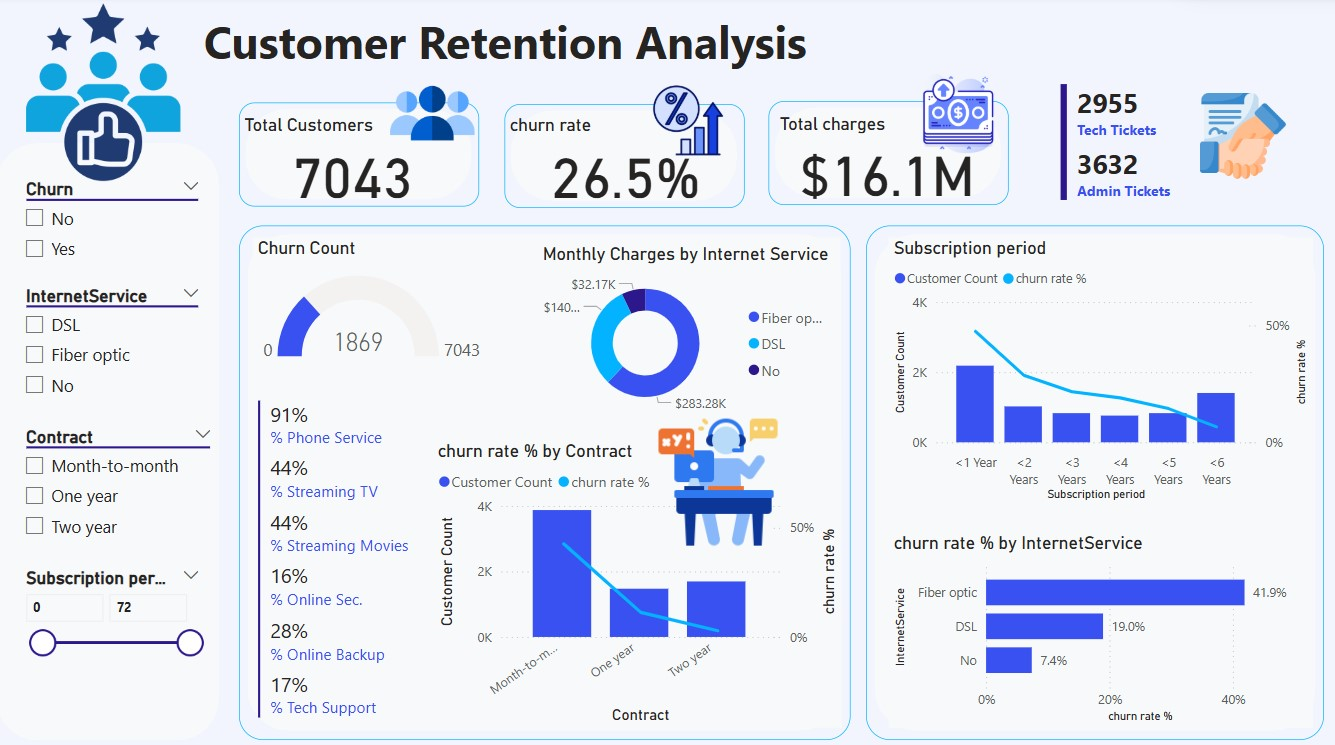

This screenshot's page, from the dashboard's own definition file:
{"tool":"powerbi","page":{"name":"Page 1","canvas":[1280,720],"ordinal":0},"visuals":[{"type":"textbox","box":[193.6,8.1,645.7,76.4],"z":0},{"type":"multiRowCard","fields":{"Values":["Sum(Churn.numTechTickets)","Sum(Churn.numAdminTickets)"]},"box":[1011.7,78.1,245.6,123.6],"z":1000},{"type":"shape","box":[0,139.9,213.1,570.9],"z":2000},{"type":"shape","box":[831.2,219.6,437.5,491.2],"z":3000},{"type":"shape","box":[232.8,101.4,229.3,99.2],"z":4000},{"type":"shape","box":[484.9,102.5,229.3,99.2],"z":5000},{"type":"shape","box":[737.5,100.3,229.3,99.2],"z":6000},{"type":"shape","box":[232.6,219.6,583.9,491.2],"z":7000},{"type":"card","title":"Total Customers","fields":{"Values":["_Measures.Customer Count"]},"box":[232.8,112.8,218,87.8],"z":8000},{"type":"card","title":"churn rate","fields":{"Values":["_Measures.% Churn Rate"]},"box":[484.9,113.9,232.6,87.8],"z":9000},{"type":"card","title":"Total charges","fields":{"Values":["Sum(Churn.TotalCharges)"]},"box":[744,111.7,216.3,87.8],"z":10000},{"type":"slicer","fields":{"Values":["Churn.InternetService"]},"box":[16.3,270,190.3,138.3],"z":11000},{"type":"slicer","fields":{"Values":["Churn.Contract"]},"box":[16.3,405,201.7,120.4],"z":12000},{"type":"slicer","fields":{"Values":["Churn.tenure"]},"box":[16.3,540,190.3,156.1],"z":13000},{"type":"clusteredBarChart","fields":{"Category":["Churn.InternetService"],"Y":["_Measures.churn rate %"]},"box":[852.3,507.5,405,191.9],"z":14000},{"type":"donutChart","title":"Monthly Charges by Internet Service","fields":{"Category":["Churn.InternetService"],"Y":["Sum(Churn.MonthlyCharges)"]},"box":[517.2,231,289.5,177.3],"z":15000},{"type":"lineClusteredColumnComboChart","title":" churn rate % by Contract","fields":{"Category":["Churn.Contract"],"Y":["_Measures.Customer Count"],"Y2":["_Measures.churn rate %"]},"box":[416.4,424.5,390.4,274.9],"z":16000},{"type":"gauge","title":"Churn Count","fields":{"Y":["_Measures.Churn Count"],"MaxValue":["_Measures.Customer Count"]},"box":[245.6,231,227.7,135],"z":17000},{"type":"lineClusteredColumnComboChart","title":"Subscription period","fields":{"Category":["Churn.Subscription period"],"Y2":["_Measures.churn rate %"],"Y":["_Measures.Customer Count"]},"box":[852.3,231,405,255.4],"z":18000},{"type":"multiRowCard","fields":{"Values":["_Measures.% Phone Service","_Measures.% Streaming TV","_Measures.% Streaming Movies","_Measures.% Online Sec.","_Measures.% Online Backup","_Measures.% Tech Support"]},"box":[245.6,380.6,170.8,318.8],"z":19000},{"type":"image","box":[870.2,68.3,96,86.2],"z":20000},{"type":"image","box":[370.9,61.8,91.1,100.8],"z":21000},{"type":"image","box":[592.1,78.1,138.3,79.7],"z":22000},{"type":"image","box":[561.2,398.5,255.4,131.8],"z":23000},{"type":"image","box":[1122.3,84.6,135,97.6],"z":24000},{"type":"image","box":[11.4,1.6,182.2,180.5],"z":25000},{"type":"slicer","fields":{"Values":["Churn.Churn"]},"box":[16.3,169.2,190.3,102.5],"z":25001}]}

Visuals, with their boxes in screenshot pixels (x1, y1, x2, y2), scaled from the page's 1280x720 canvas onto the 1335x745 screenshot:
textbox: (left=202, top=8, right=875, bottom=87)
multiRowCard - Sum(Churn.numTechTickets) x Sum(Churn.numAdminTickets): (left=1055, top=81, right=1311, bottom=209)
shape: (left=0, top=145, right=222, bottom=735)
shape: (left=867, top=227, right=1323, bottom=735)
shape: (left=243, top=105, right=482, bottom=208)
shape: (left=506, top=106, right=745, bottom=209)
shape: (left=769, top=104, right=1008, bottom=206)
shape: (left=243, top=227, right=852, bottom=735)
"Total Customers" card: (left=243, top=117, right=470, bottom=208)
"churn rate" card: (left=506, top=118, right=748, bottom=209)
"Total charges" card: (left=776, top=116, right=1002, bottom=206)
slicer - Churn.InternetService: (left=17, top=279, right=215, bottom=422)
slicer - Churn.Contract: (left=17, top=419, right=227, bottom=544)
slicer - Churn.tenure: (left=17, top=559, right=215, bottom=720)
clusteredBarChart - Churn.InternetService x _Measures.churn rate %: (left=889, top=525, right=1311, bottom=724)
"Monthly Charges by Internet Service" donutChart: (left=539, top=239, right=841, bottom=422)
" churn rate % by Contract" lineClusteredColumnComboChart: (left=434, top=439, right=841, bottom=724)
"Churn Count" gauge: (left=256, top=239, right=494, bottom=379)
"Subscription period" lineClusteredColumnComboChart: (left=889, top=239, right=1311, bottom=503)
multiRowCard - _Measures.% Phone Service x _Measures.% Streaming TV: (left=256, top=394, right=434, bottom=724)
image: (left=908, top=71, right=1008, bottom=160)
image: (left=387, top=64, right=482, bottom=168)
image: (left=618, top=81, right=762, bottom=163)
image: (left=585, top=412, right=852, bottom=549)
image: (left=1171, top=88, right=1311, bottom=189)
image: (left=12, top=2, right=202, bottom=188)
slicer - Churn.Churn: (left=17, top=175, right=215, bottom=281)
